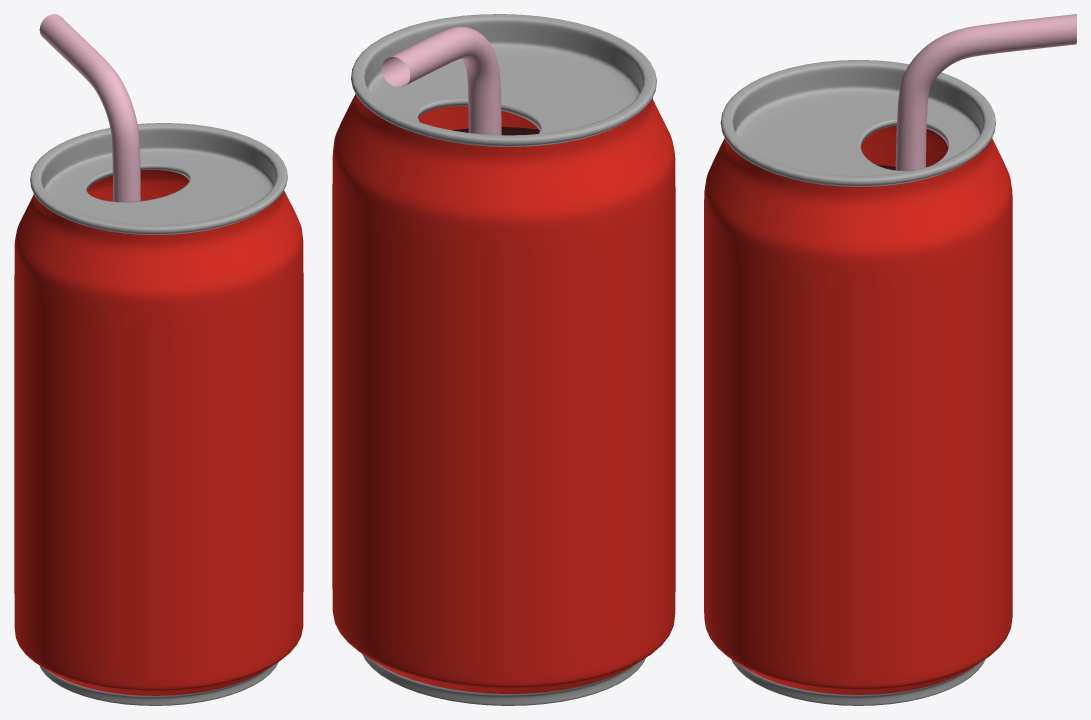
File: LataExplosiva.fbx
The picture shows the model from 3 angles, left to right: view 1: azimuth 30°, elevation 25°; view 2: azimuth 150°, elevation 25°; view 3: azimuth 270°, elevation 25°; orthographic projection. The views are drawn at different scales.
Visible parts, largest first — view 1: Lata, Canudo; view 2: Lata, Canudo; view 3: Lata, Canudo.
Part boxes in pixels (left/top/right/bottom): Lata: left=14, top=123, right=303, bottom=705; Canudo: left=39, top=14, right=140, bottom=201; Lata: left=332, top=14, right=675, bottom=705; Canudo: left=382, top=26, right=501, bottom=135; Lata: left=704, top=60, right=1012, bottom=705; Canudo: left=895, top=14, right=1076, bottom=170.
Bounding box in the file's own units: 196 × 423 × 227.
